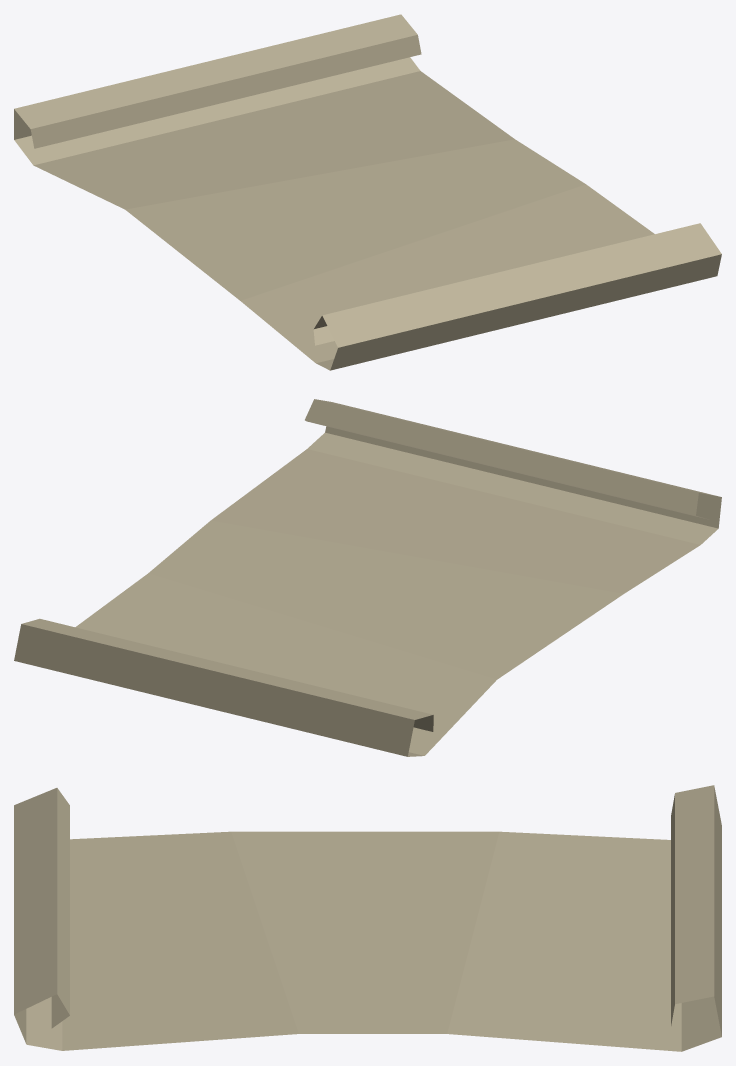
File: scroll.gltf
3 renders of one model, top to bottom at view 1: azimuth 30°, elevation 25°; view 2: azimuth 150°, elevation 25°; view 3: azimuth 270°, elevation 25°, orthographic. The views are drawn at different scales.
Parts seen in each view (by area): view 1: Scroll_Open; view 2: Scroll_Open; view 3: Scroll_Open.
Boxes of the visible parts, x1,y1,x2,y2 form: Scroll_Open: (14, 14, 721, 370); Scroll_Open: (14, 399, 721, 756); Scroll_Open: (14, 785, 721, 1051).
Bounding box in the file's own units: 0.4051 × 0.05 × 0.5504.
Materials: 1 (1 with a texture image).
